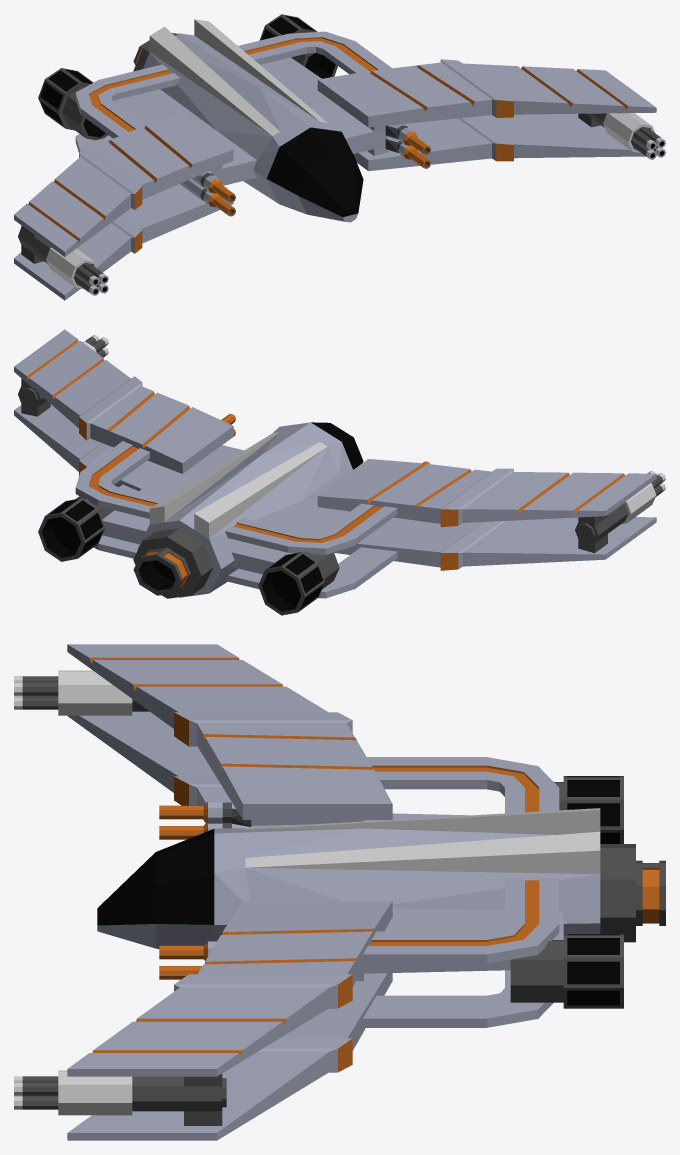
Rendered from Spaceship5_4.fbx.
3 renders of one model, top to bottom at view 1: azimuth 30°, elevation 25°; view 2: azimuth 150°, elevation 25°; view 3: azimuth 270°, elevation 25°, orthographic. The views are drawn at different scales.
Visible parts, largest first — view 1: Spaceship5_4; view 2: Spaceship5_4; view 3: Spaceship5_4.
Boxes of the visible parts, left/top/right/bottom form: Spaceship5_4: left=14, top=14, right=665, bottom=300; Spaceship5_4: left=14, top=329, right=665, bottom=615; Spaceship5_4: left=14, top=644, right=665, bottom=1140.
Bounding box in the file's own units: 1342 × 216 × 871.
